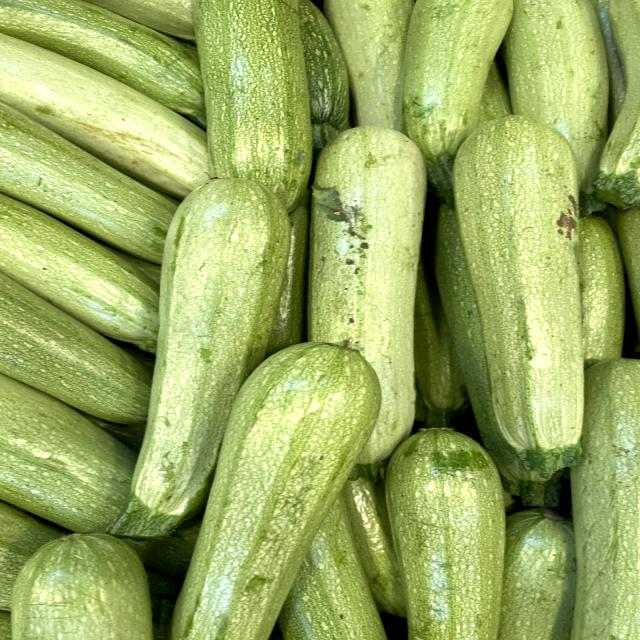zucchini: (105, 168, 319, 544), (171, 325, 397, 640), (448, 105, 603, 506)
